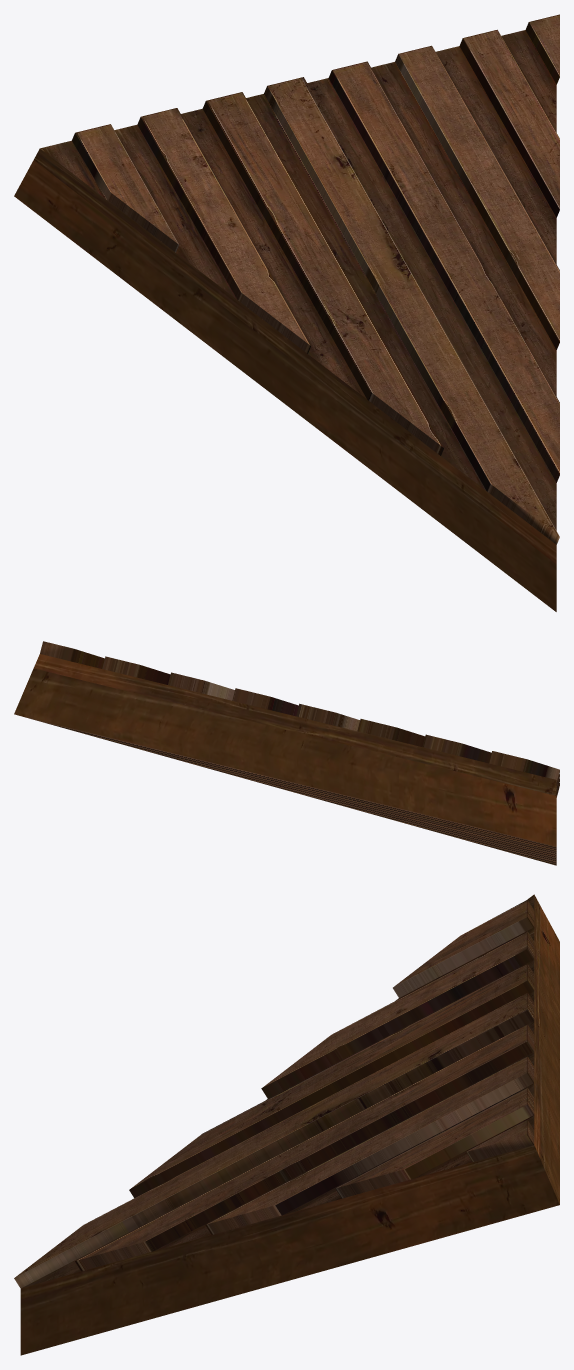
The picture shows the model from 3 angles, top to bottom: view 1: azimuth 30°, elevation 25°; view 2: azimuth 150°, elevation 25°; view 3: azimuth 270°, elevation 25°; orthographic projection.
Visible parts, largest first — view 1: SM_BB_T2_Roof_Triangle_Shallow_Large_LOD0; view 2: SM_BB_T2_Roof_Triangle_Shallow_Large_LOD0; view 3: SM_BB_T2_Roof_Triangle_Shallow_Large_LOD0.
Boxes of the visible parts, <box> form: SM_BB_T2_Roof_Triangle_Shallow_Large_LOD0: <box>14,14,559,611</box>; SM_BB_T2_Roof_Triangle_Shallow_Large_LOD0: <box>14,641,559,865</box>; SM_BB_T2_Roof_Triangle_Shallow_Large_LOD0: <box>14,894,559,1355</box>.
Bounding box in the file's own units: 3.15 × 1.93 × 2.76.
Materials: 2 (2 with a texture image).
